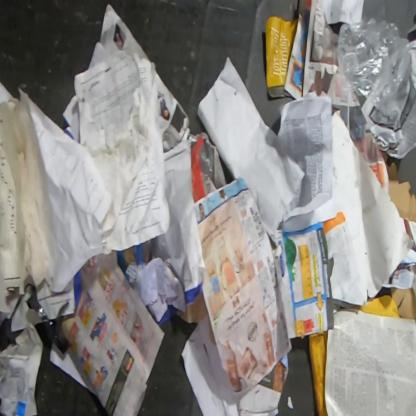cardboard: (379, 150, 416, 224), (389, 286, 415, 321)
soft_plastic: (331, 15, 413, 121)
